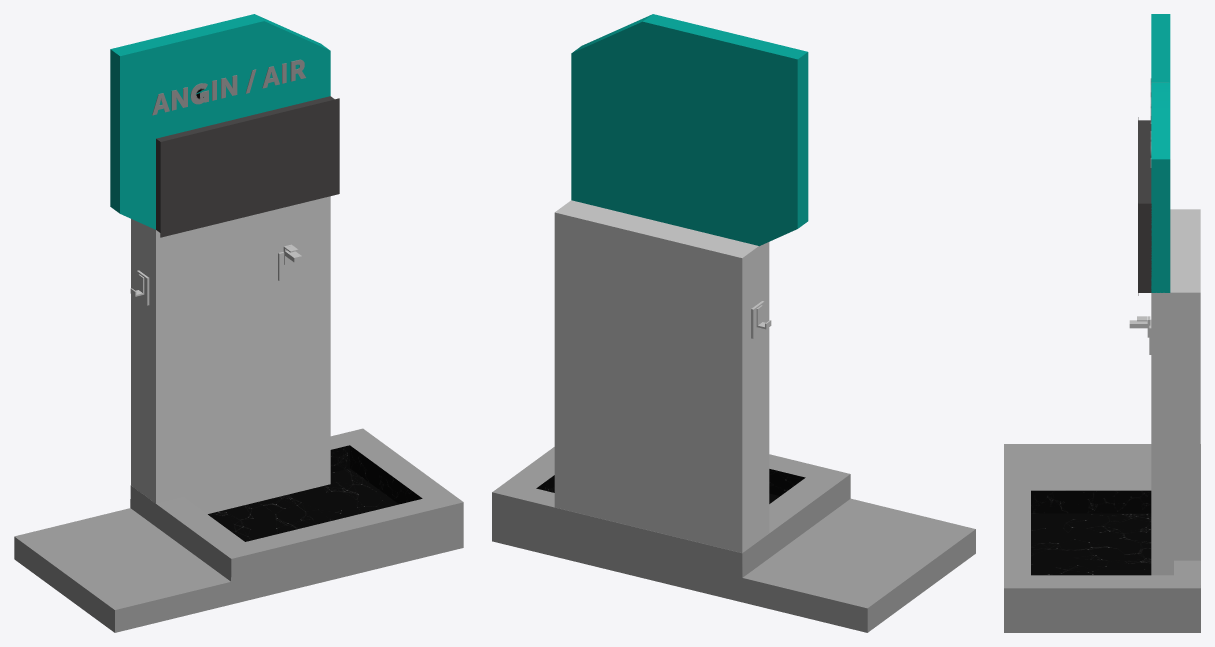
File: PETRONAS ANGIN AIR.fbx
3 views of the same model, side by side, from view 1: azimuth 30°, elevation 25°; view 2: azimuth 150°, elevation 25°; view 3: azimuth 270°, elevation 25° (orthographic). The views are drawn at different scales.
Parts seen in each view (by area): view 1: ANGIN_AIR_1; view 2: ANGIN_AIR_1; view 3: ANGIN_AIR_1.
Part boxes in pixels (bbox=[...]): ANGIN_AIR_1: bbox=[14, 14, 463, 632]; ANGIN_AIR_1: bbox=[492, 14, 975, 632]; ANGIN_AIR_1: bbox=[1004, 14, 1200, 632].
Size of the model in its own units: 120 by 165 by 60.
Materials: 1 (1 with a texture image).
